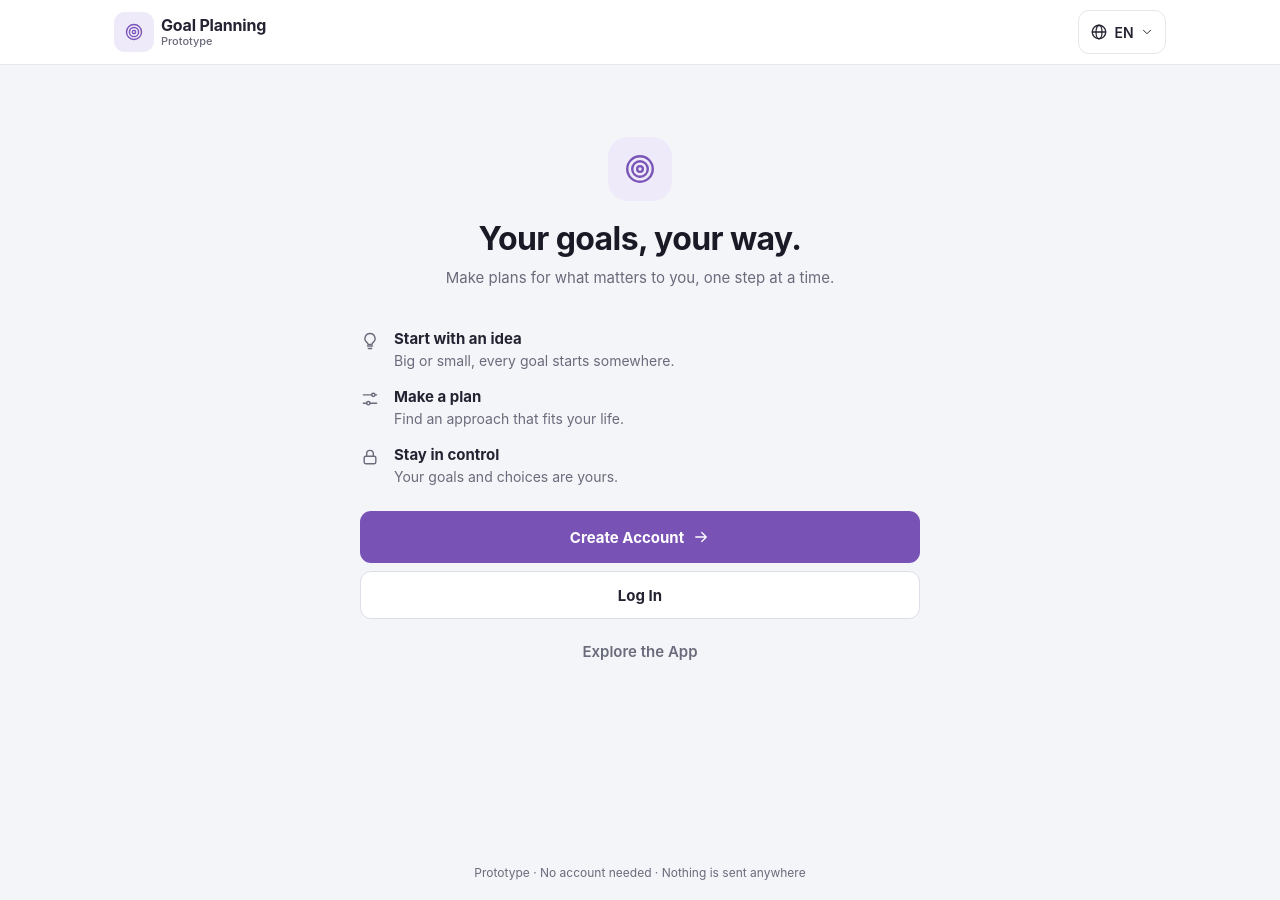
Scenario: Sidebar on wide screens › keeps global controls in the header when the navigation changes width
Click the button "Explore the App" at point(640, 651), box [360, 627, 920, 675]
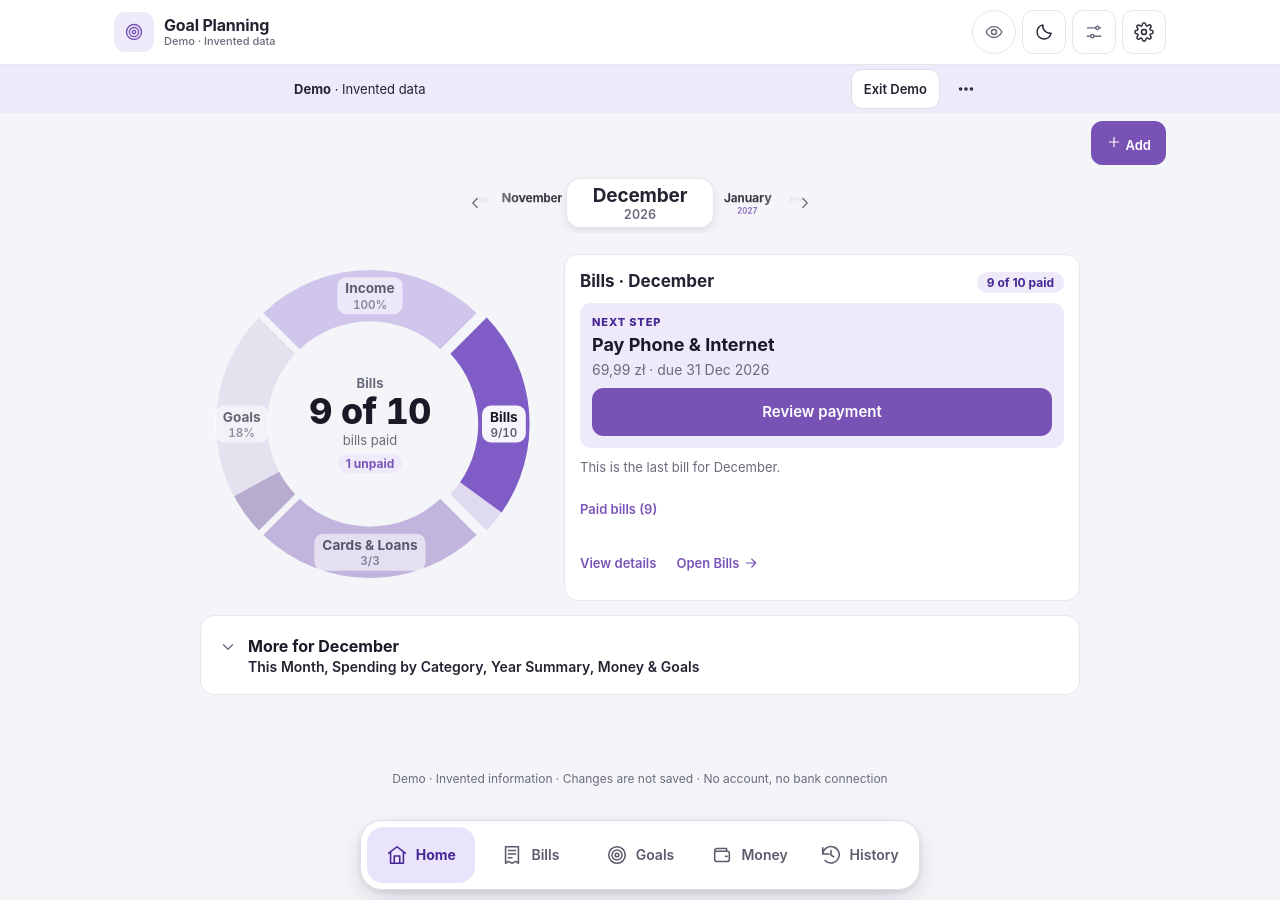
expect the number of buttons named "Settings" is 1: met, box [1122, 10, 1166, 54]
expect the button with aria-label "Go to Home" is shown: met, box [114, 10, 282, 54]
